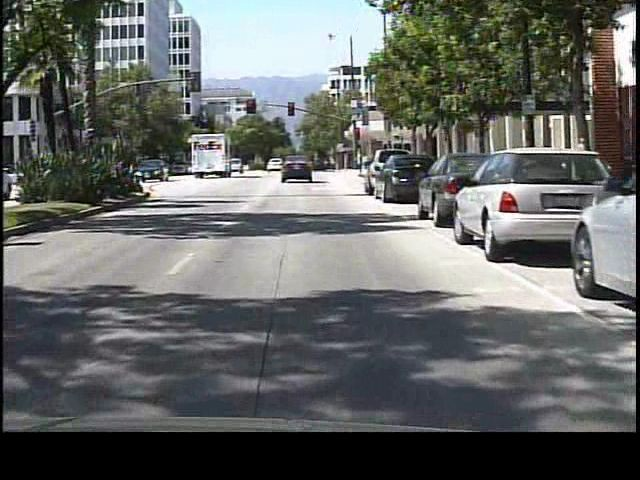person: (353, 147, 367, 178)
